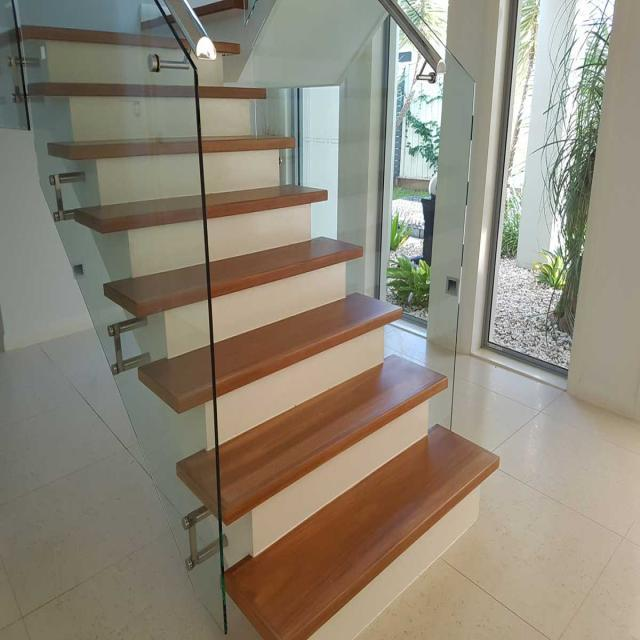stairs: (19, 20, 500, 638)
